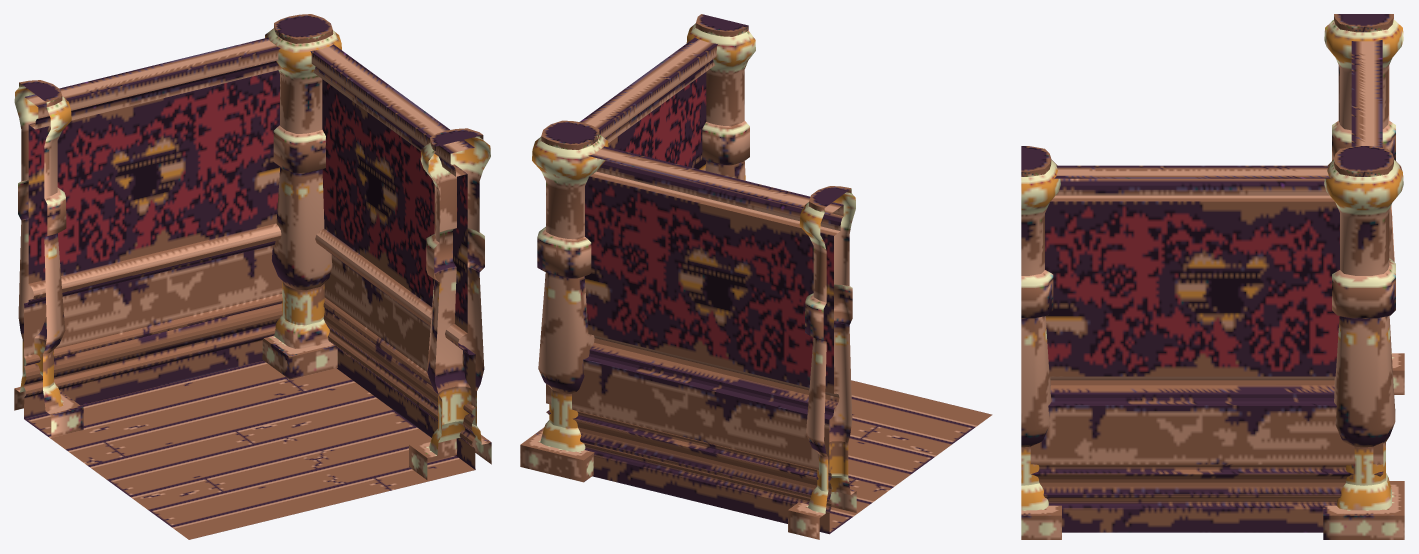
Rendered from tile_corner_v2.fbx.
3 renders of one model, left to right at view 1: azimuth 30°, elevation 25°; view 2: azimuth 150°, elevation 25°; view 3: azimuth 270°, elevation 25°, orthographic. The views are drawn at different scales.
Parts seen in each view (by area): view 1: tile_corner_v2.001; view 2: tile_corner_v2.001; view 3: tile_corner_v2.001.
Part boxes in pixels (box(x1,y1,x2,y2)): tile_corner_v2.001: box(14, 14, 491, 539); tile_corner_v2.001: box(520, 14, 992, 539); tile_corner_v2.001: box(1021, 14, 1404, 539).
Bounding box in the file's own units: 190 × 200 × 190.
